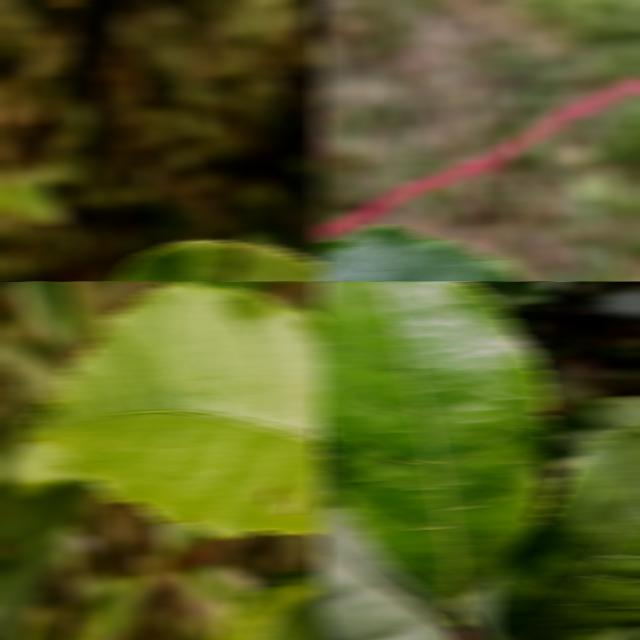Leaf: (316, 281, 554, 622), (19, 283, 324, 538), (488, 420, 640, 640), (316, 506, 460, 640), (0, 441, 96, 544), (0, 531, 67, 640), (65, 575, 148, 640), (549, 395, 640, 450), (13, 281, 78, 341), (0, 174, 67, 225), (458, 575, 504, 640), (316, 454, 348, 506), (594, 288, 640, 318)
